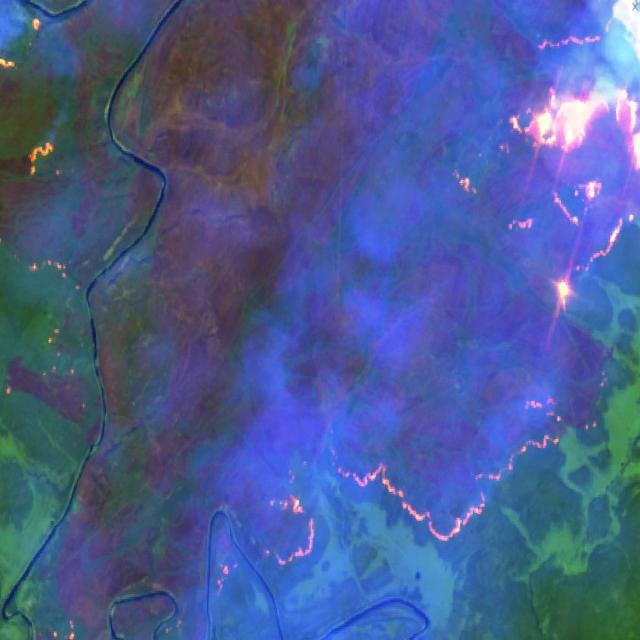fire: (250, 376, 614, 586), (437, 1, 640, 329)
